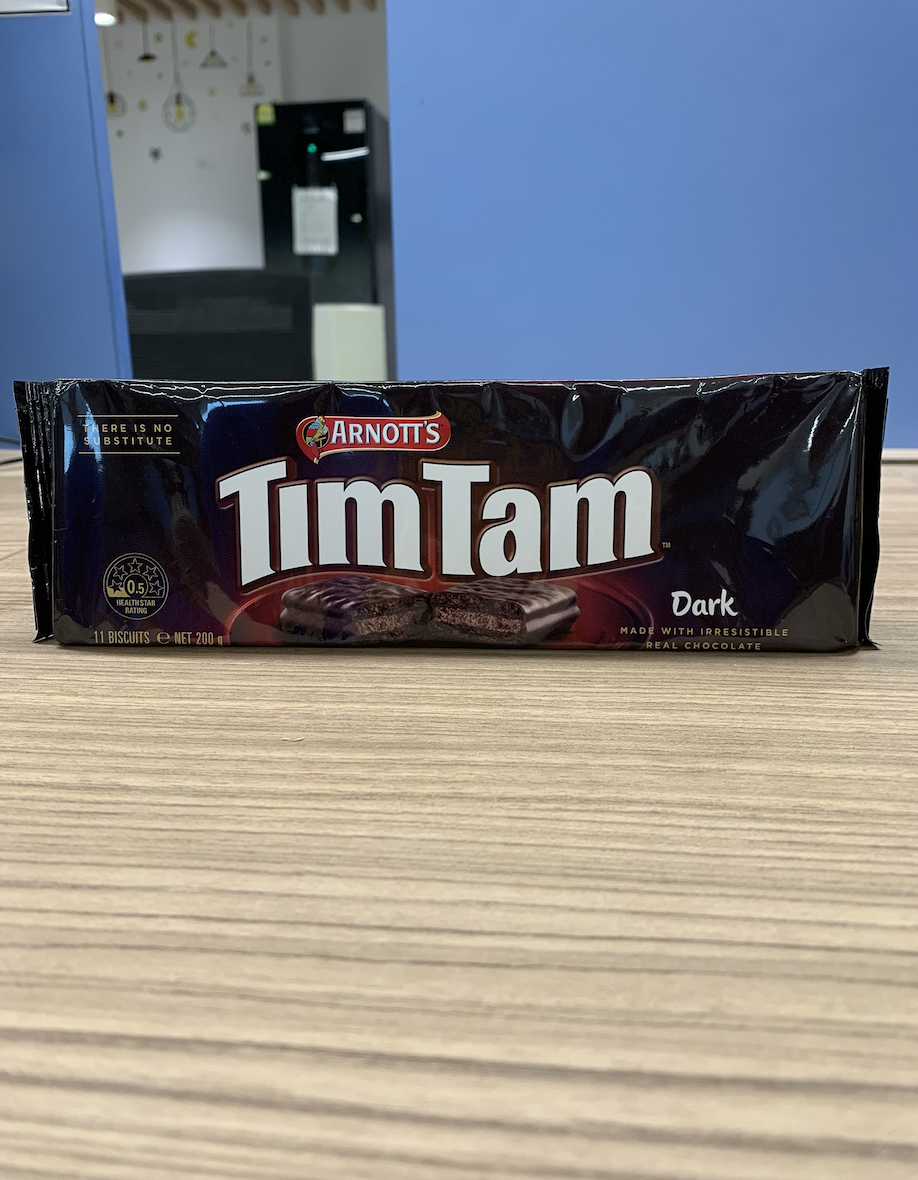cookies_150g: (47, 381, 861, 660)
